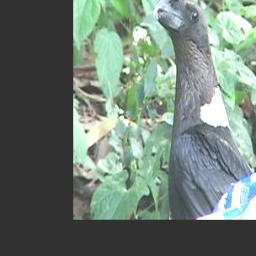Crow: (152, 0, 256, 218)
